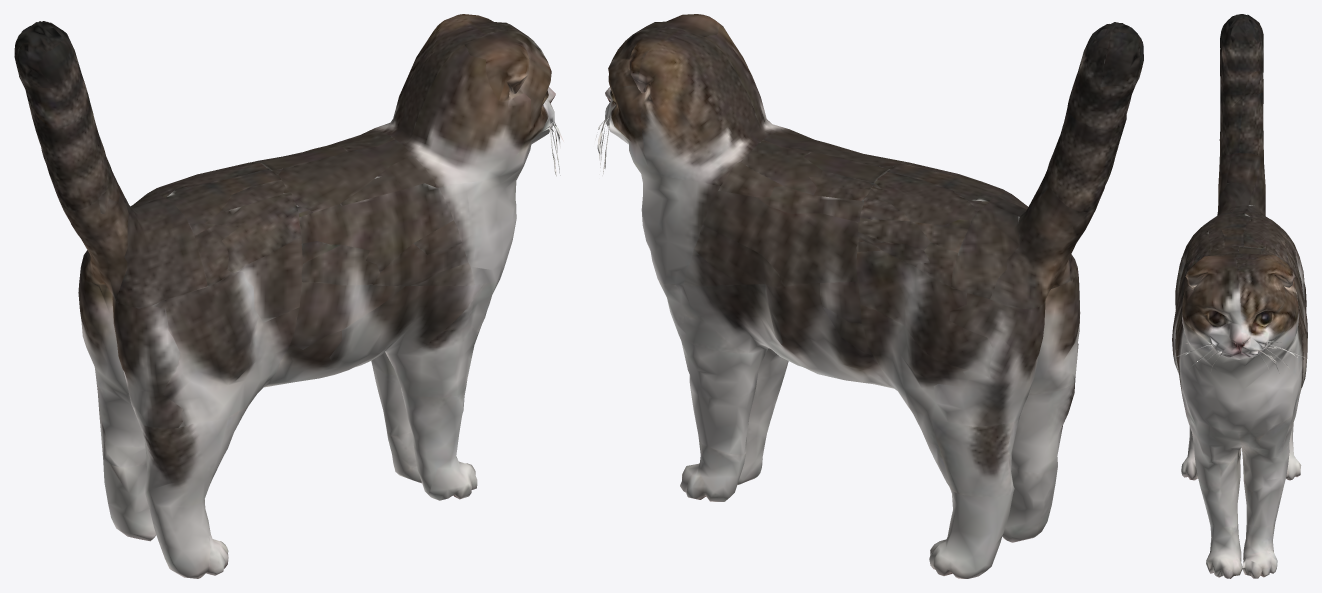
The model's file is FUKURA-lo.glb.
3 views of the same model, side by side, from view 1: azimuth 30°, elevation 25°; view 2: azimuth 150°, elevation 25°; view 3: azimuth 270°, elevation 25° (orthographic). The views are drawn at different scales.
Visible parts, largest first — view 1: tripo_node_cbb5c6ea-8075-41a4-9d39-eee624dc7d40; view 2: tripo_node_cbb5c6ea-8075-41a4-9d39-eee624dc7d40; view 3: tripo_node_cbb5c6ea-8075-41a4-9d39-eee624dc7d40.
Part boxes in pixels (bbox=[...]): tripo_node_cbb5c6ea-8075-41a4-9d39-eee624dc7d40: bbox=[14, 14, 563, 578]; tripo_node_cbb5c6ea-8075-41a4-9d39-eee624dc7d40: bbox=[595, 14, 1143, 578]; tripo_node_cbb5c6ea-8075-41a4-9d39-eee624dc7d40: bbox=[1172, 14, 1307, 578].
Size of the model in its own units: 0.9973 by 0.999 by 0.2965.
1 material, 1 textured.
